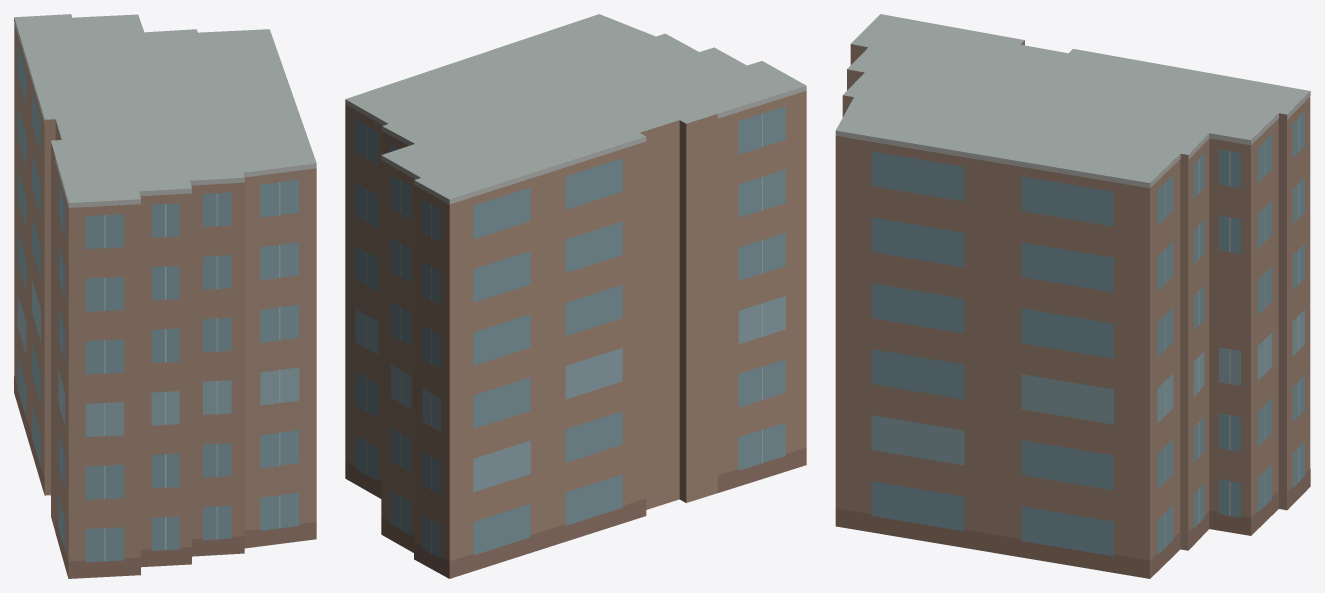
The model's file is survey-upis-32795045.glb.
3 renders of one model, left to right at view 1: azimuth 30°, elevation 25°; view 2: azimuth 150°, elevation 25°; view 3: azimuth 270°, elevation 25°, orthographic. The views are drawn at different scales.
Parts seen in each view (by area): view 1: survey-upis-32795045.tmp; view 2: survey-upis-32795045.tmp; view 3: survey-upis-32795045.tmp.
Boxes of the visible parts, x1=… form: survey-upis-32795045.tmp: x1=14, y1=14, x2=316, y2=578; survey-upis-32795045.tmp: x1=345, y1=14, x2=806, y2=578; survey-upis-32795045.tmp: x1=835, y1=14, x2=1310, y2=578.
Bounding box in the file's own units: 17.15 × 18.7 × 20.34.
